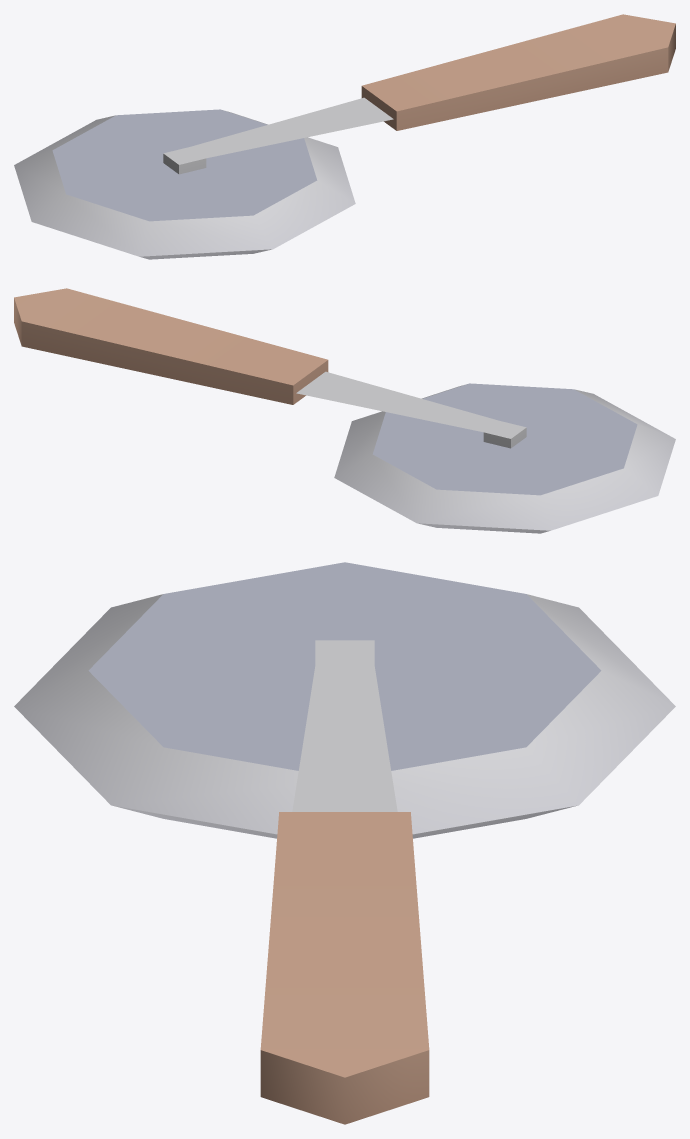
File: pizza-cutter.glb
The picture shows the model from 3 angles, top to bottom: view 1: azimuth 30°, elevation 25°; view 2: azimuth 150°, elevation 25°; view 3: azimuth 270°, elevation 25°; orthographic projection. The views are drawn at different scales.
Parts seen in each view (by area): view 1: pizza-cutter; view 2: pizza-cutter; view 3: pizza-cutter.
Part boxes in pixels (bbox=[...]): pizza-cutter: bbox=[14, 14, 675, 259]; pizza-cutter: bbox=[14, 288, 675, 533]; pizza-cutter: bbox=[14, 562, 675, 1124].
Bounding box in the file's own units: 0.536 × 0.0556 × 0.2549.
